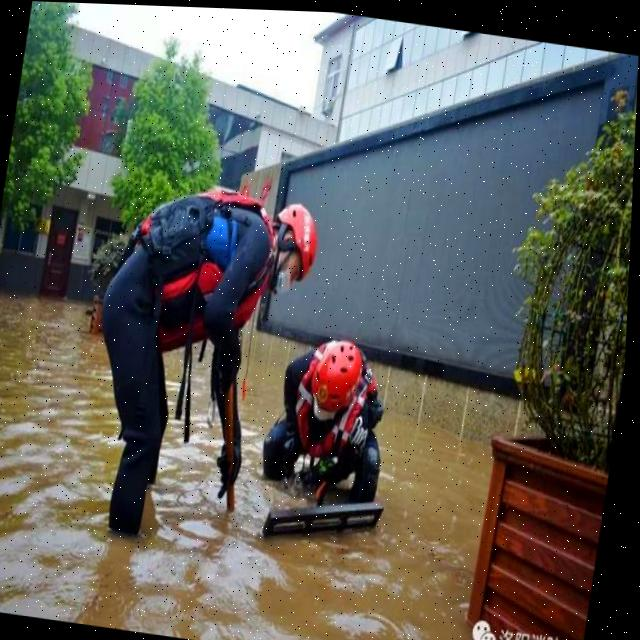rescuer: (62, 159, 328, 563), (249, 315, 413, 521)
